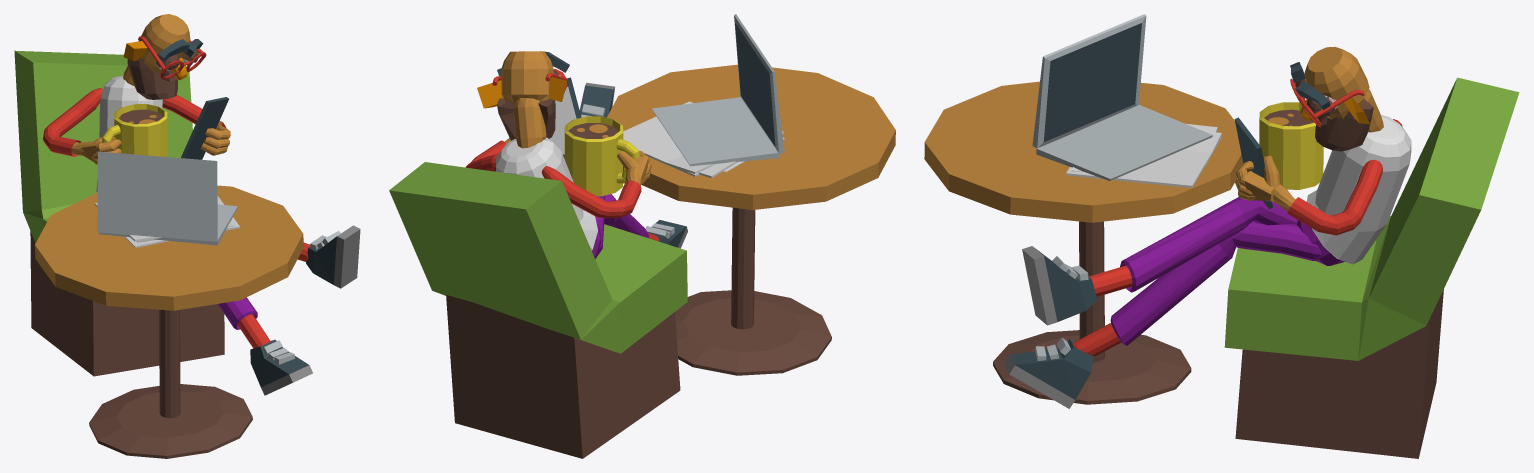
3 renders of one model, left to right at view 1: azimuth 30°, elevation 25°; view 2: azimuth 150°, elevation 25°; view 3: azimuth 270°, elevation 25°, orthographic. The views are drawn at different scales.
Parts seen in each view (by area): view 1: node_MeshObject543779712-PolyPaper20, node_MeshObject1581219840-PolyPaper19; view 2: node_MeshObject543779712-PolyPaper20, node_MeshObject1581219840-PolyPaper19; view 3: node_MeshObject543779712-PolyPaper20, node_MeshObject1581219840-PolyPaper19.
Boxes of the visible parts, bbox=[...] form: node_MeshObject543779712-PolyPaper20: bbox=[30, 14, 360, 458]; node_MeshObject1581219840-PolyPaper19: bbox=[14, 50, 237, 245]; node_MeshObject543779712-PolyPaper20: bbox=[446, 51, 895, 458]; node_MeshObject1581219840-PolyPaper19: bbox=[389, 14, 784, 353]; node_MeshObject543779712-PolyPaper20: bbox=[924, 46, 1443, 458]; node_MeshObject1581219840-PolyPaper19: bbox=[1032, 14, 1519, 360].
Bounding box in the file's own units: 2.33 × 2.5 × 3.45.
